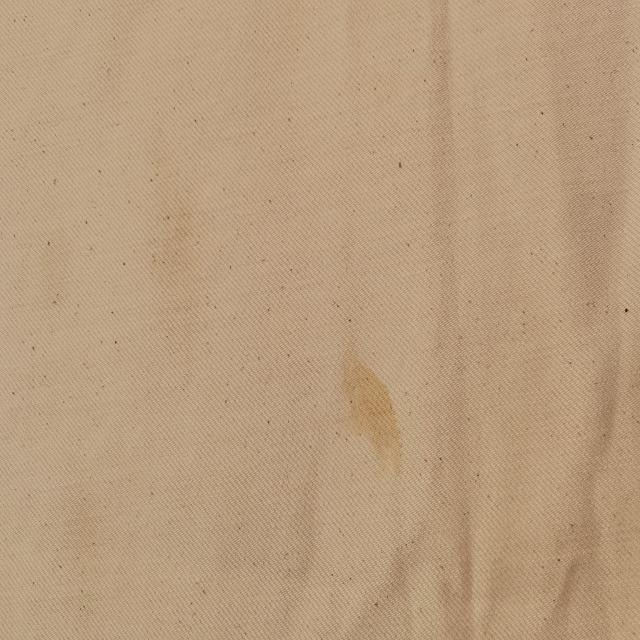taaaches: (337, 340, 407, 492)
